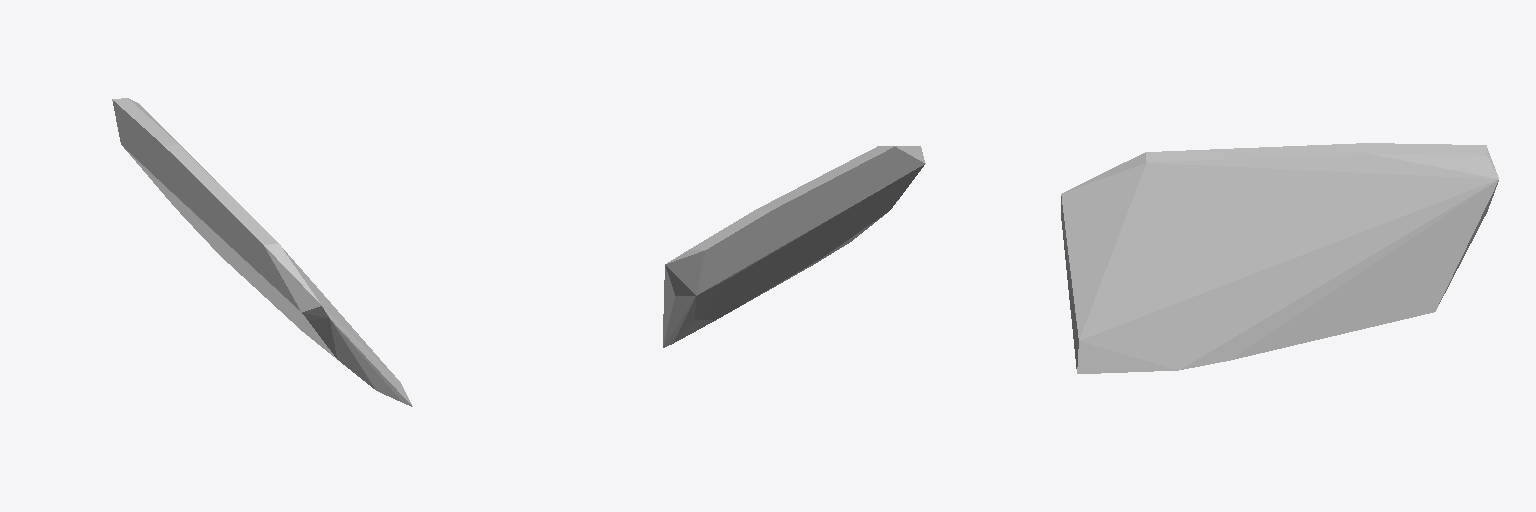
File: plastic_cup_collision_8.obj
The picture shows the model from 3 angles: view 1: azimuth 30°, elevation 25°; view 2: azimuth 150°, elevation 25°; view 3: azimuth 270°, elevation 25°; orthographic projection.
Bounding box in the file's own units: 0.0159 × 0.0232 × 0.0507.